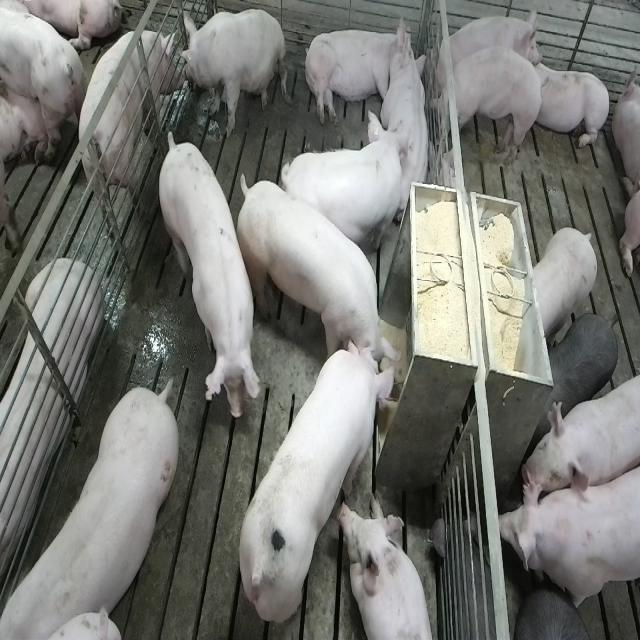Feeding: (236, 333, 400, 626), (231, 169, 399, 380)
Lateral_lying: (302, 15, 417, 127)
Sitting: (177, 7, 287, 139)
Standing: (5, 376, 184, 636), (155, 124, 262, 423), (499, 456, 638, 620), (80, 28, 180, 236), (279, 111, 406, 263), (519, 365, 637, 509), (430, 45, 545, 171), (0, 0, 82, 158), (544, 310, 620, 424), (530, 226, 598, 346), (513, 589, 607, 640)
Sternal_lying: (0, 261, 100, 599), (342, 495, 437, 640), (381, 44, 434, 226), (528, 53, 612, 153)
